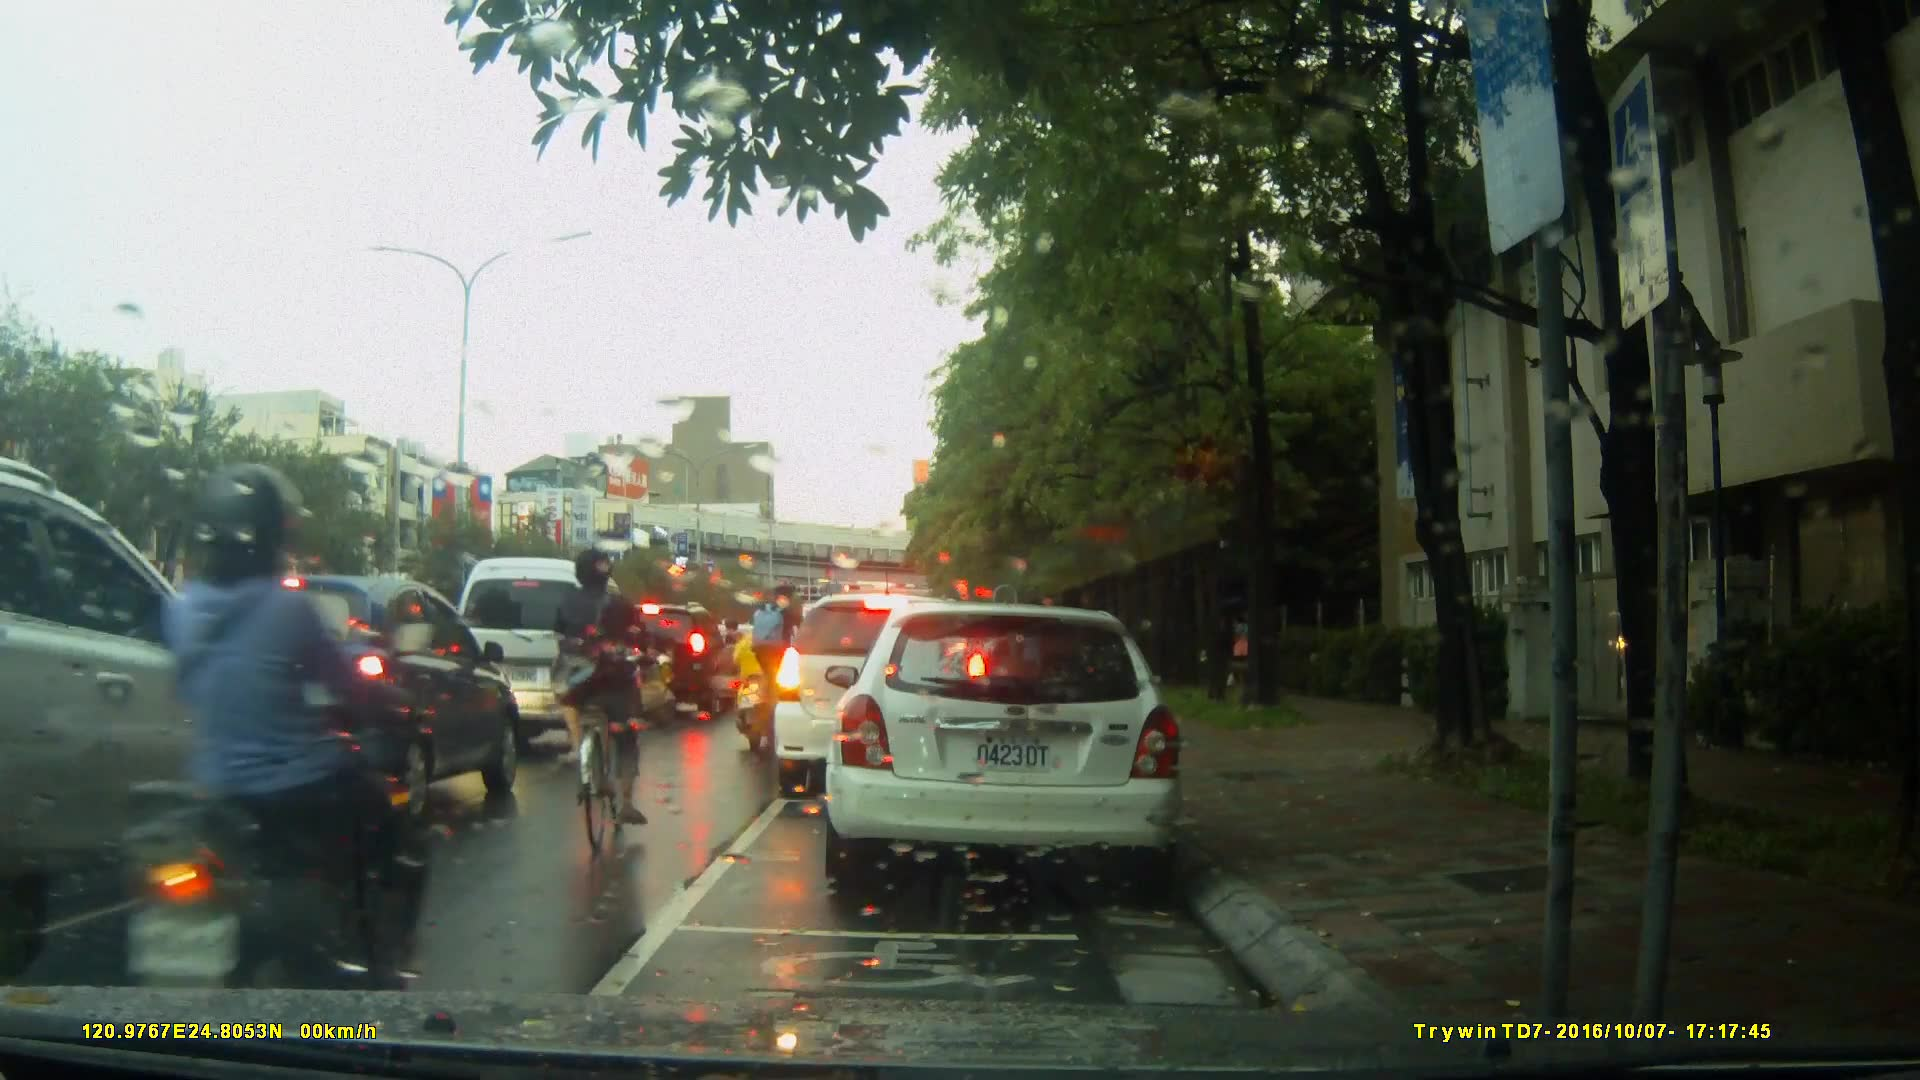rider: (98, 467, 422, 1023), (555, 545, 644, 857), (752, 578, 810, 735), (729, 602, 780, 742)
vehicle: (1, 449, 327, 987), (815, 593, 1204, 909), (180, 573, 530, 830), (770, 592, 991, 799), (448, 557, 648, 762), (601, 599, 743, 719)
